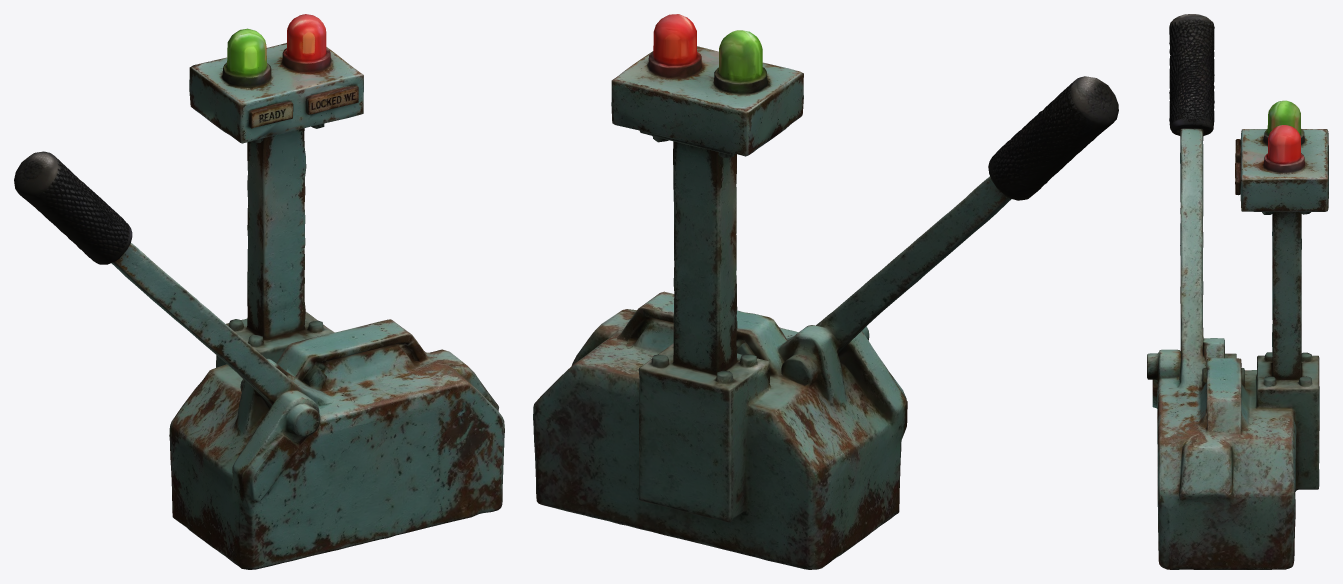
The model's file is tripo_convert_a86c5cfa-e93c-45bf-a0fe-651275d047cc.fbx.
3 views of the same model, side by side, from view 1: azimuth 30°, elevation 25°; view 2: azimuth 150°, elevation 25°; view 3: azimuth 270°, elevation 25° (orthographic). The views are drawn at different scales.
Parts seen in each view (by area): view 1: tripo_node_a86c5cfa; view 2: tripo_node_a86c5cfa; view 3: tripo_node_a86c5cfa.
Boxes of the visible parts, x1=… form: tripo_node_a86c5cfa: x1=14, y1=14, x2=504, y2=569; tripo_node_a86c5cfa: x1=533, y1=14, x2=1118, y2=569; tripo_node_a86c5cfa: x1=1147, y1=14, x2=1328, y2=569.
Size of the model in its own units: 1 by 0.947 by 0.3972.
Materials: 1 (1 with a texture image).
